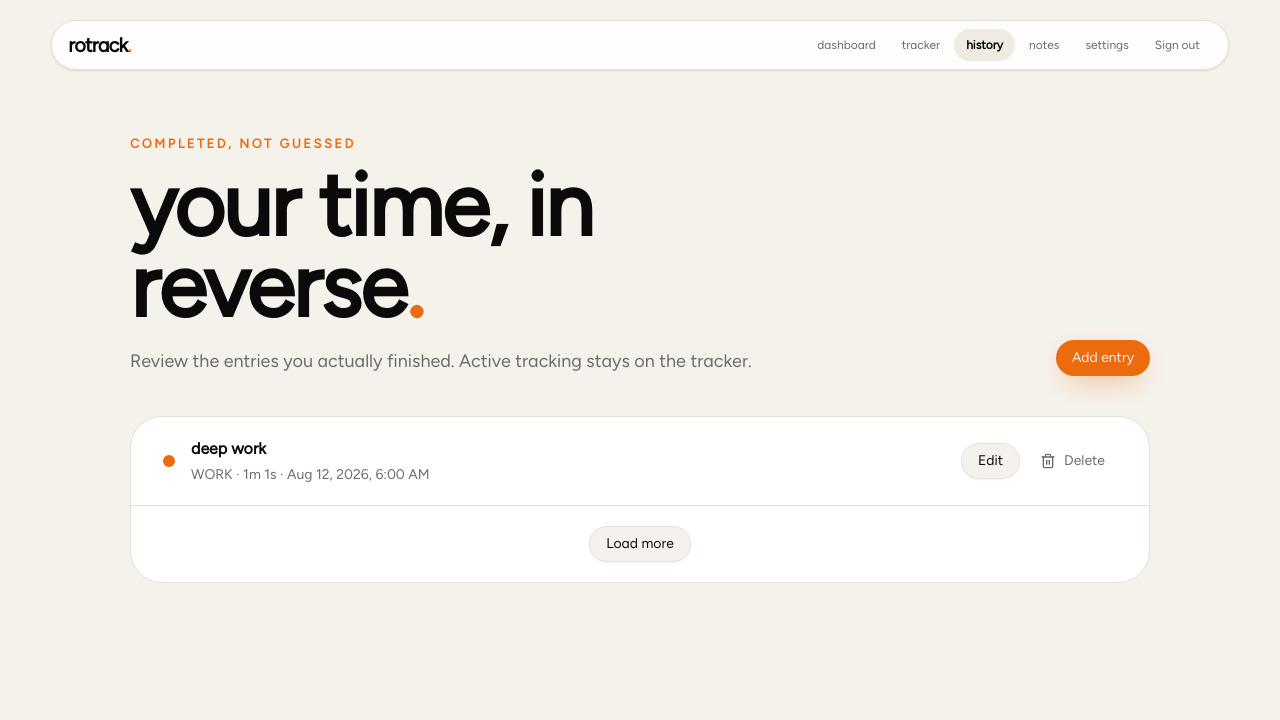
HistoryPage › deduplicates IDs when a cursor page repeats a row
The image size is (1280, 720).
Expected: the text "deep work" is shown, [191,439,266,458]
What coordinates should you click on to do the following:
click the button "Load more"
I would click on:
 (640, 544)
Its box is [589,526,691,562].
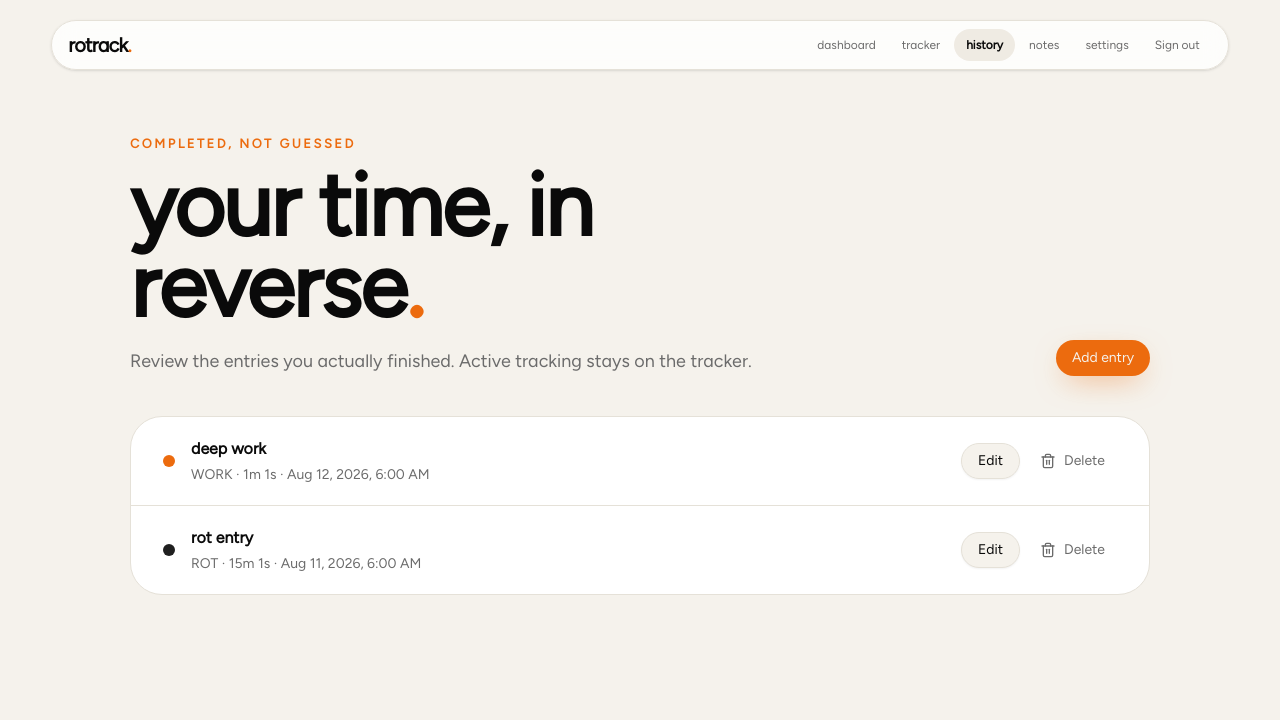
Expected: the number of list items is 2, [131,417,1149,506]; [163,528,1117,572]
